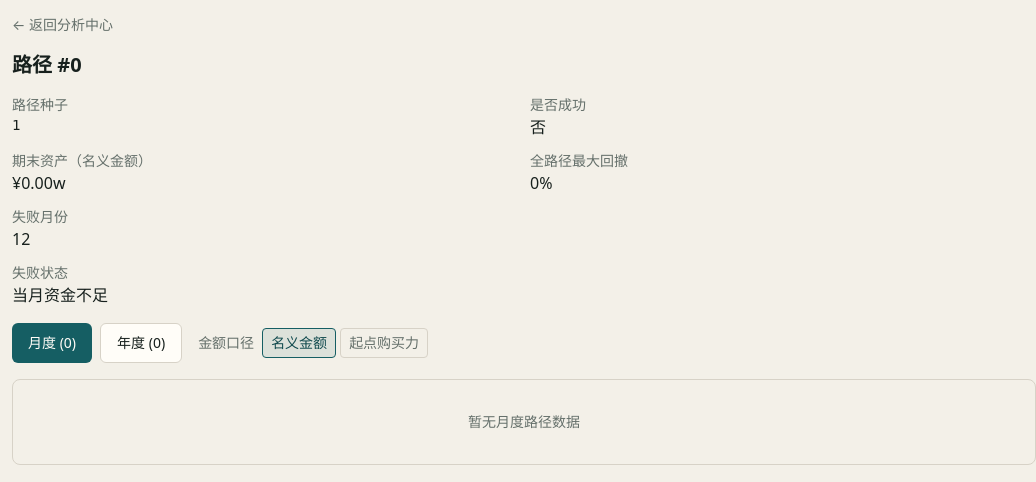
PathDetailPage › shows empty state when monthly/yearly are empty
Expected: the text "当月资金不足" is shown, [12,284,108,306]
Expected: the text "失败状态" is shown, [12,263,68,282]
Click the button "年度 (0)" at (141, 343), box [100,323,182,363]
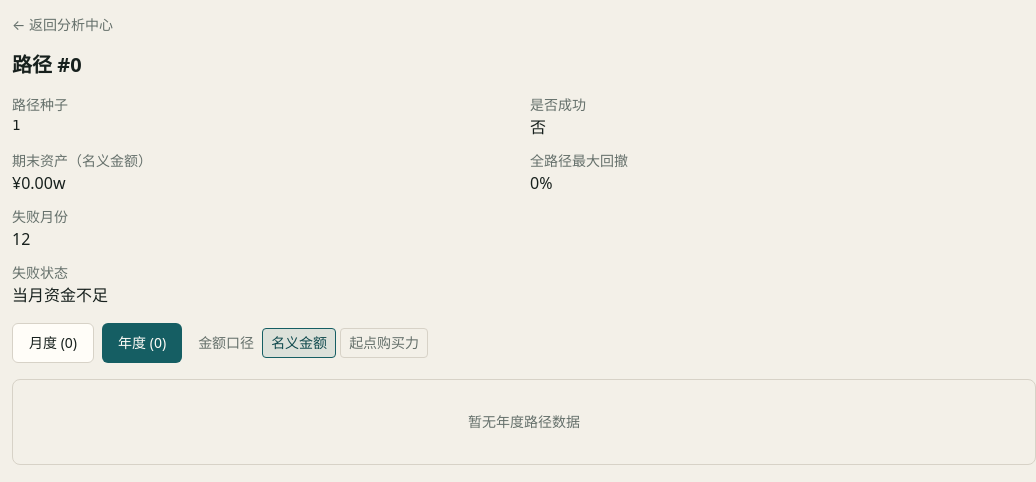
Expected: the text "暂无年度路径数据" is shown, [12,379,1035,465]
